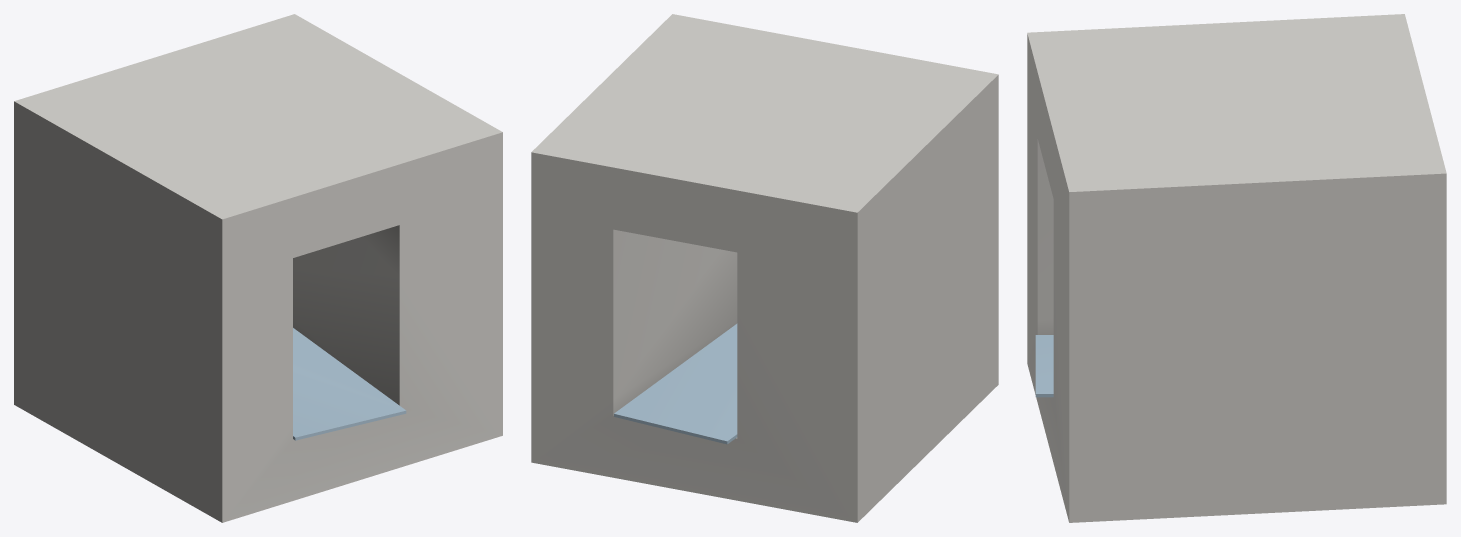
Rendered from difc_gate.glb.
3 views of the same model, side by side, from view 1: azimuth 30°, elevation 25°; view 2: azimuth 150°, elevation 25°; view 3: azimuth 270°, elevation 25° (orthographic). The views are drawn at different scales.
Visible parts, largest first — view 1: difc_gate; view 2: difc_gate; view 3: difc_gate.
Boxes of the visible parts, left/top/right/bottom form: difc_gate: left=14, top=14, right=502, bottom=522; difc_gate: left=531, top=14, right=998, bottom=522; difc_gate: left=1027, top=14, right=1446, bottom=522.
Bounding box in the file's own units: 69.31 × 60 × 68.96.
